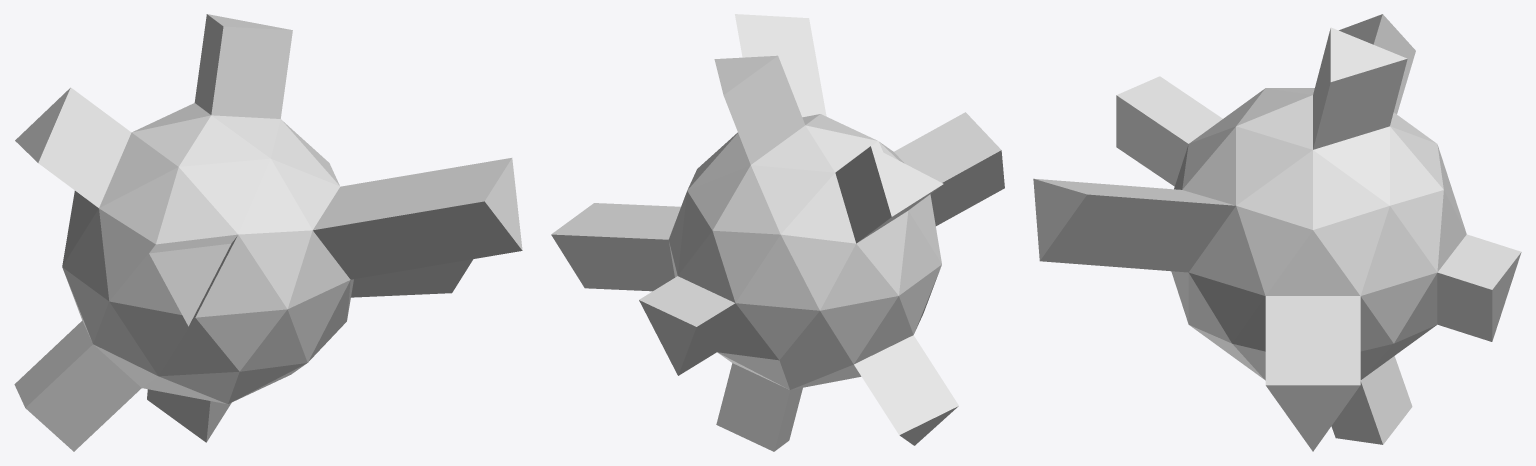
File: ICO.obj
3 views of the same model, side by side, from view 1: azimuth 30°, elevation 25°; view 2: azimuth 150°, elevation 25°; view 3: azimuth 270°, elevation 25° (orthographic). The views are drawn at different scales.
Visible parts, largest first — view 1: ICO球; view 2: ICO球; view 3: ICO球.
Part boxes in pixels (box(x1,y1,x2,y2)): ICO球: box(14, 14, 522, 451); ICO球: box(551, 14, 1004, 451); ICO球: box(1033, 14, 1521, 451).
Size of the model in its own units: 3.26 by 3 by 3.17.
Materials: 1 (1 with a texture image).
